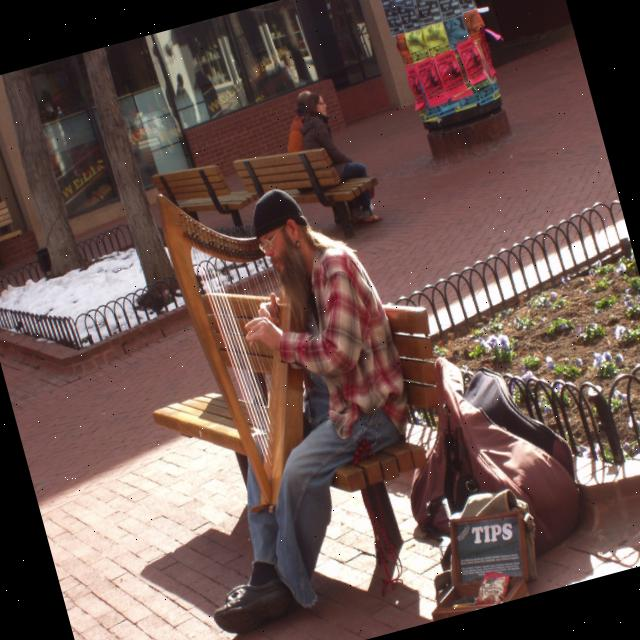harp: (154, 164, 355, 519)
